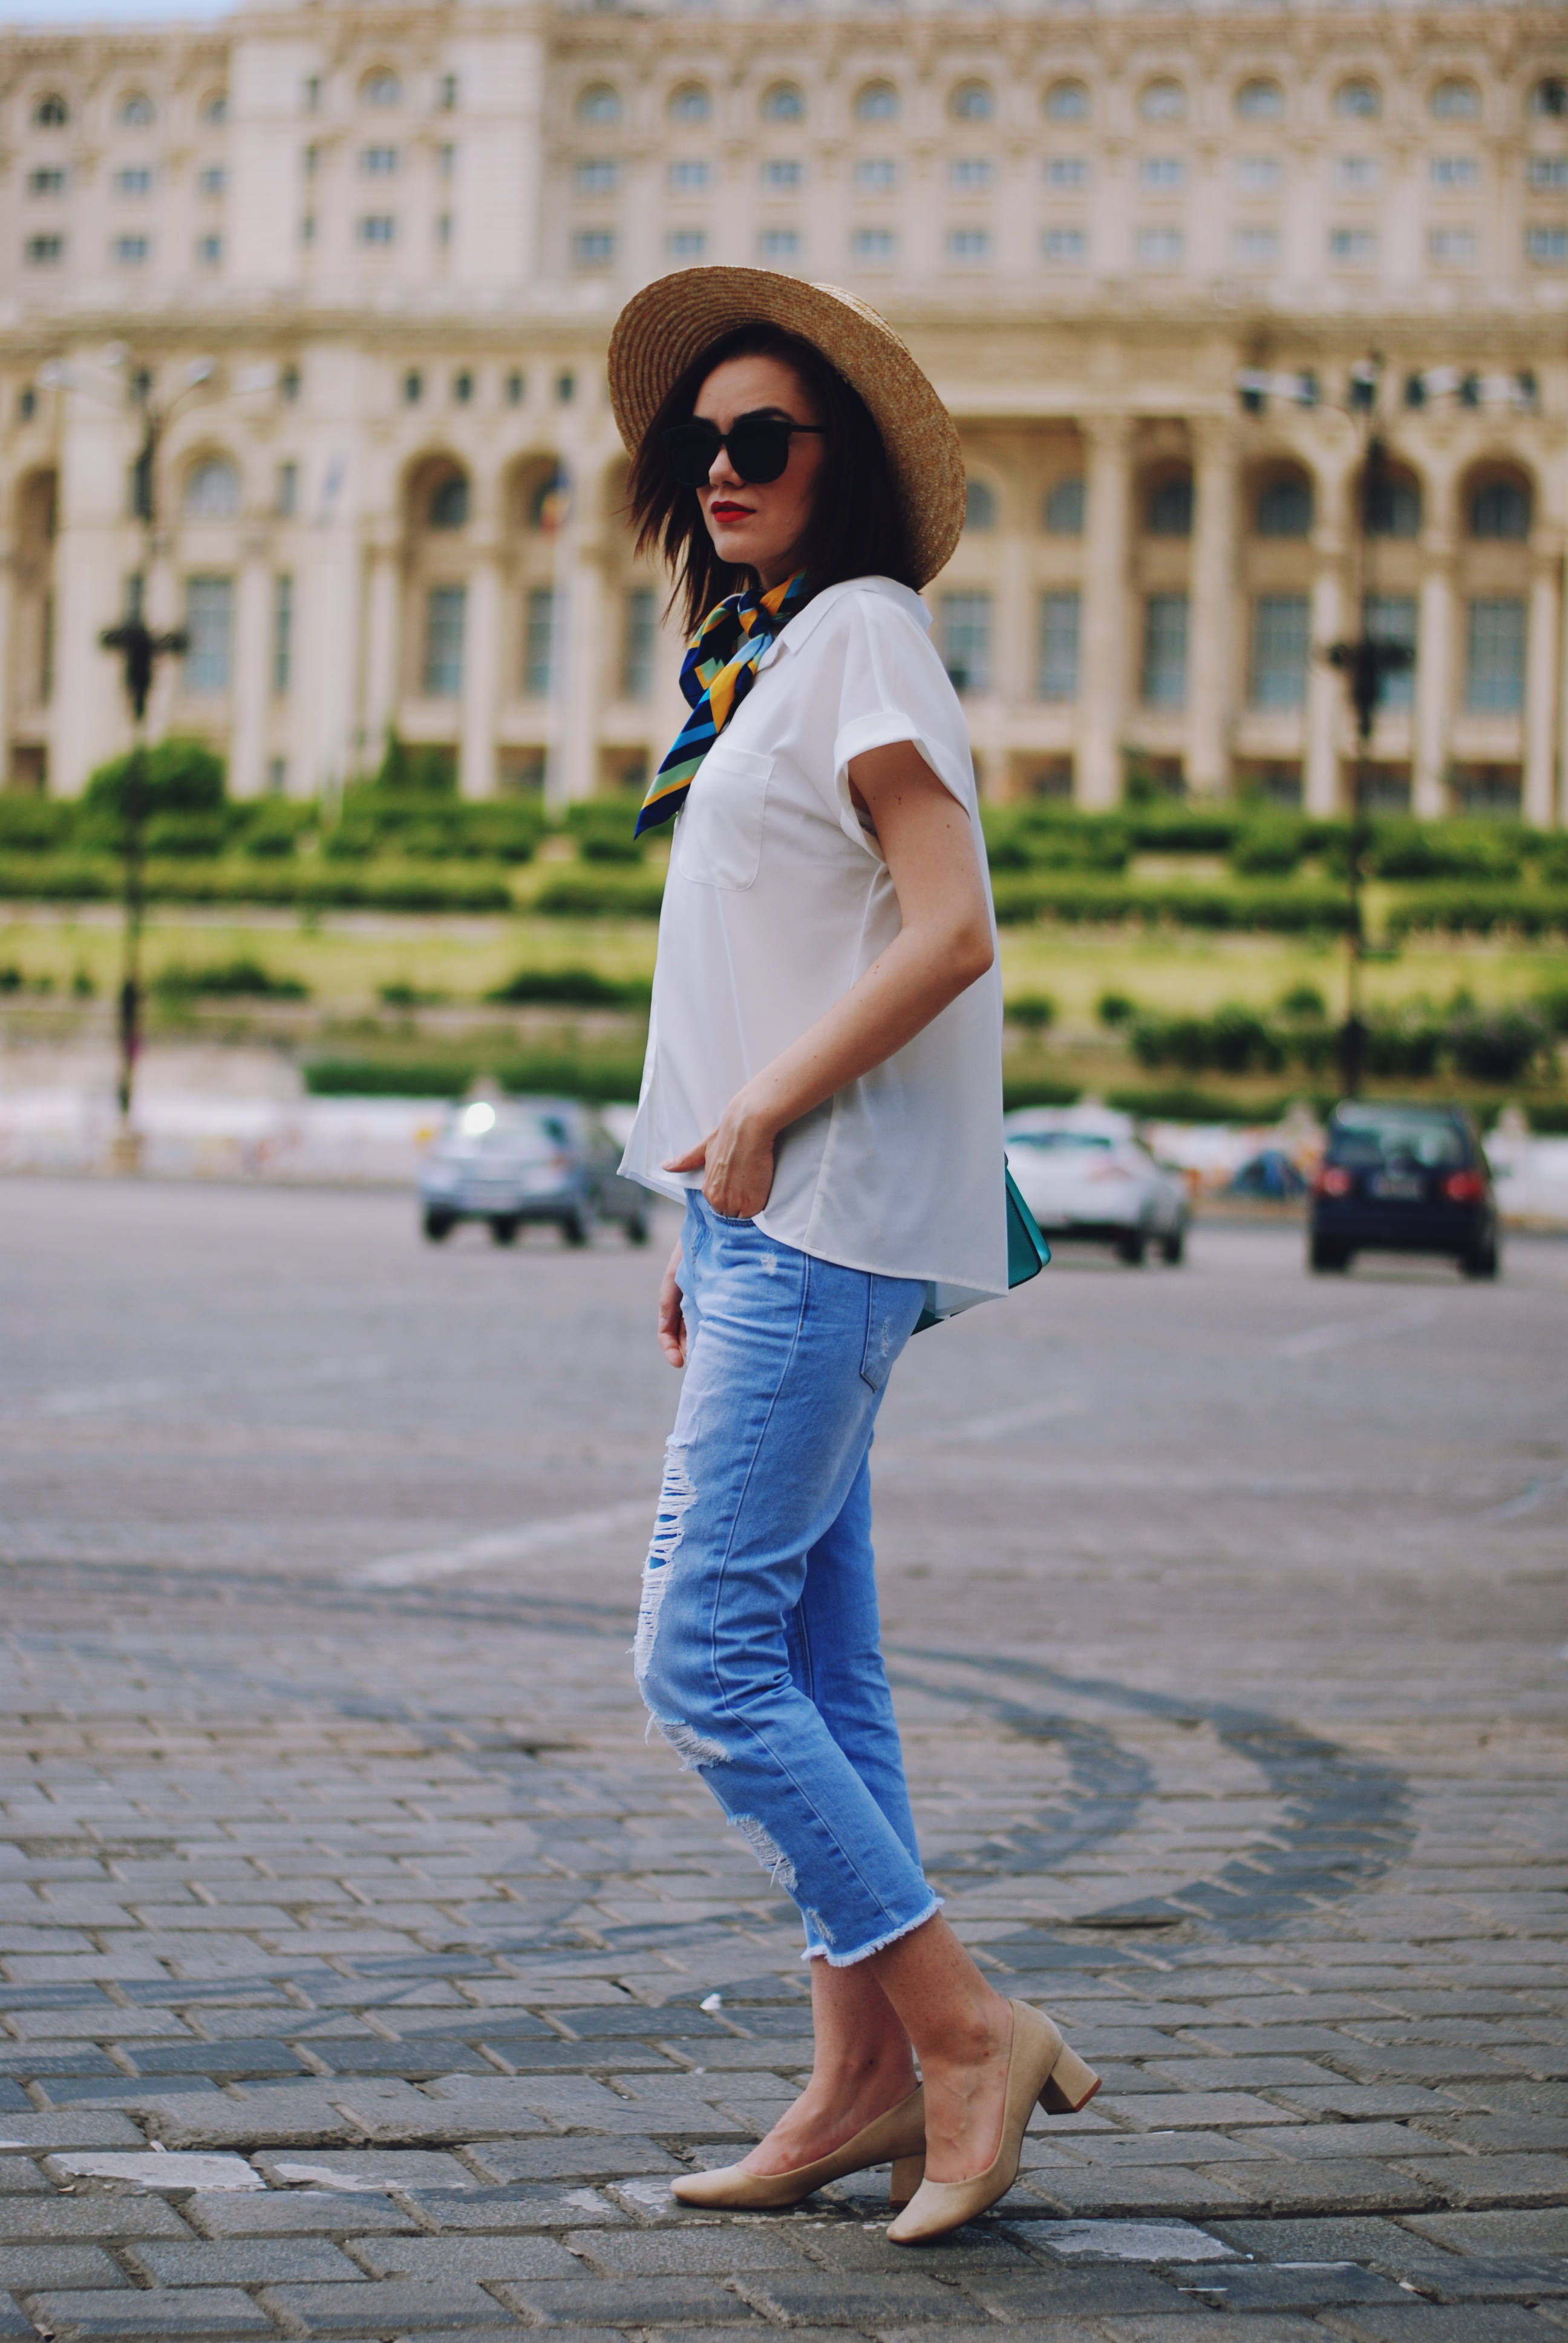jeans: (647, 1181, 1022, 2051)
sunglasses: (668, 411, 793, 474)
